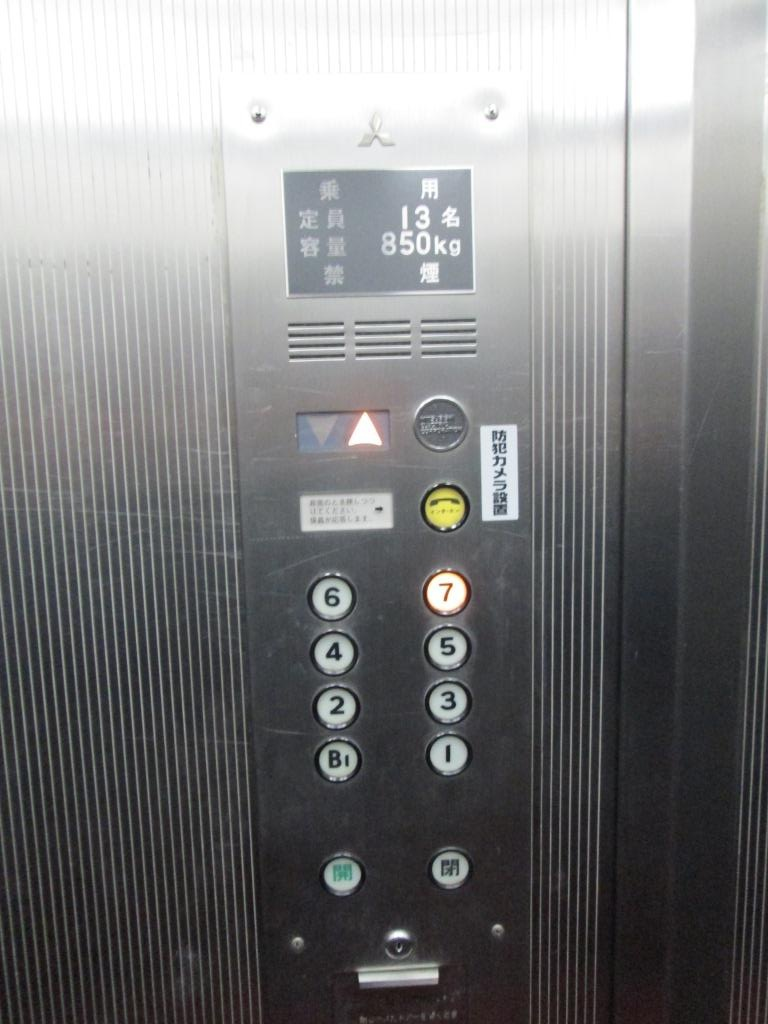1: (422, 729, 476, 780)
2: (309, 681, 363, 734)
3: (422, 676, 476, 729)
4: (307, 627, 360, 680)
5: (419, 621, 476, 675)
6: (305, 570, 359, 625)
7: (418, 565, 475, 619)
B1: (311, 734, 364, 786)
call: (418, 478, 473, 536)
text: (409, 392, 473, 456)
text_close: (425, 844, 474, 894)
text_open: (317, 850, 366, 900)
